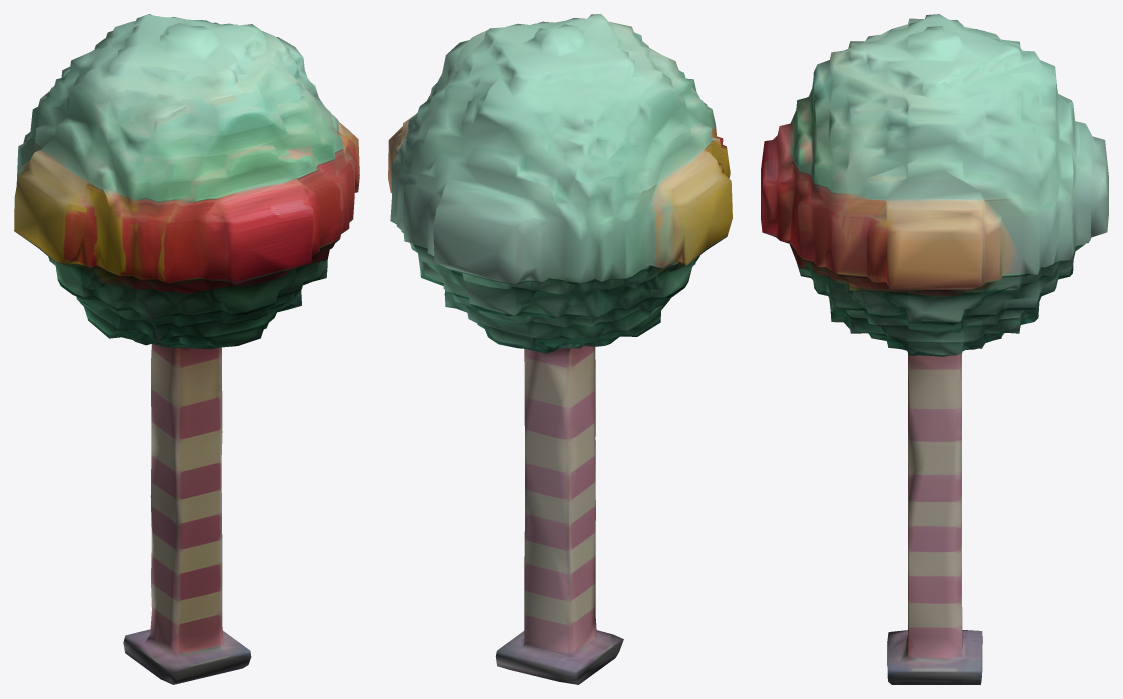
The model's file is LollipopTree.obj.
3 views of the same model, side by side, from view 1: azimuth 30°, elevation 25°; view 2: azimuth 150°, elevation 25°; view 3: azimuth 270°, elevation 25° (orthographic).
Parts seen in each view (by area): view 1: input; view 2: input; view 3: input.
Boxes of the visible parts, x1=… form: input: x1=14, y1=14, x2=359, y2=684; input: x1=388, y1=14, x2=732, y2=684; input: x1=761, y1=14, x2=1108, y2=684.
Size of the model in its own units: 8.01 by 16 by 8.01.
1 material, 1 textured.
